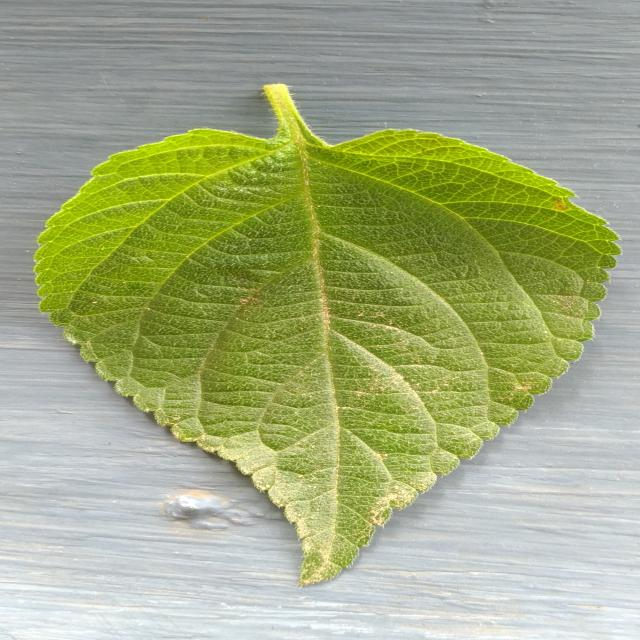Lantana: (36, 85, 620, 584)
